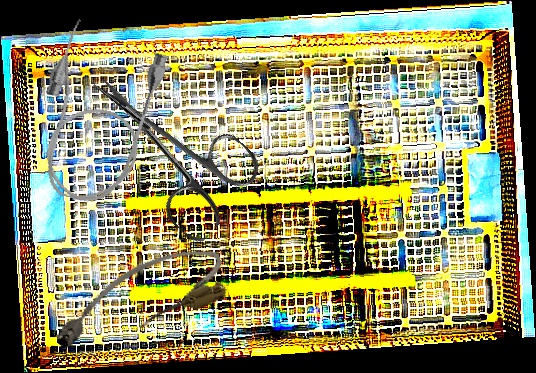Cannula: (19, 15, 173, 214), (42, 236, 235, 361)
Iris Scissors: (60, 43, 270, 247)
